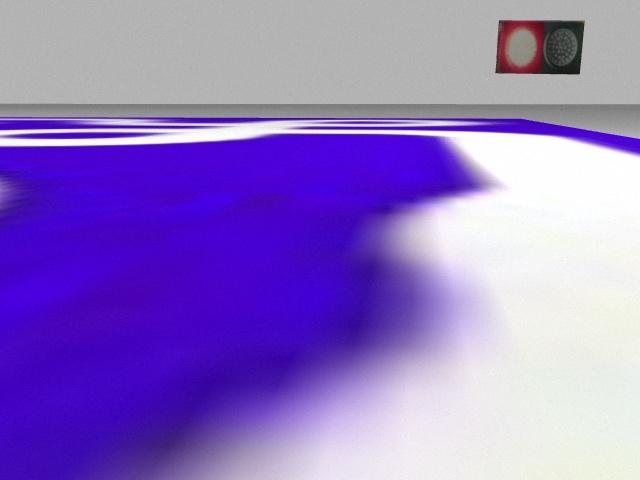red: (499, 20, 541, 76)
